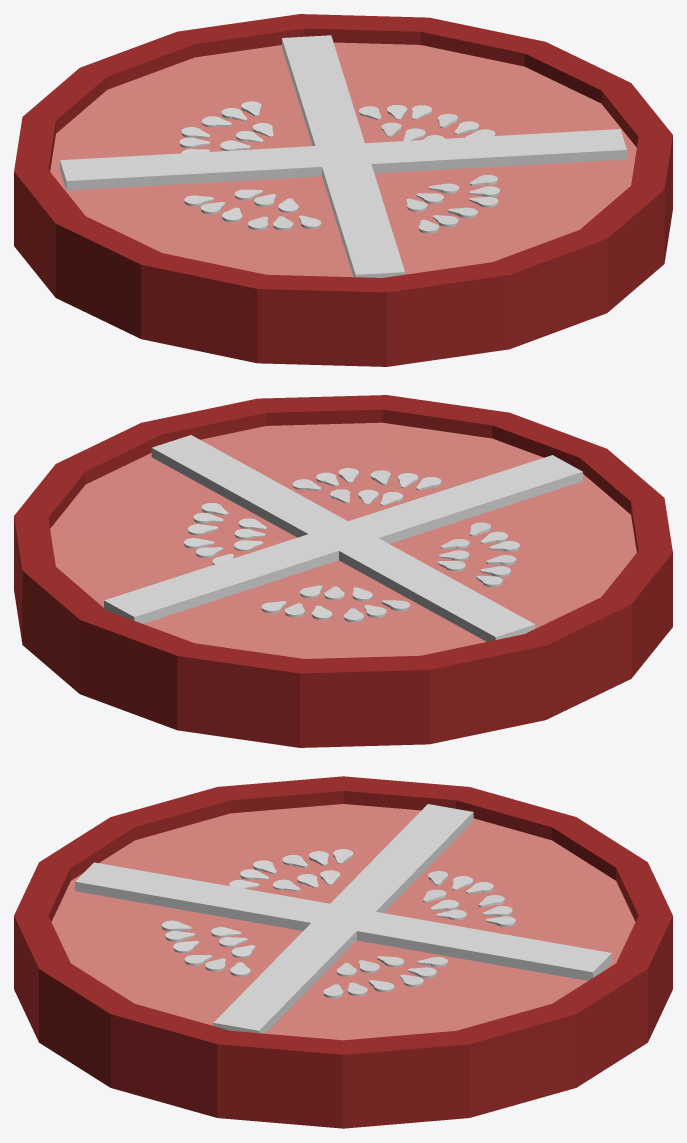
The model's file is tomato.glb.
3 renders of one model, top to bottom at view 1: azimuth 30°, elevation 25°; view 2: azimuth 150°, elevation 25°; view 3: azimuth 270°, elevation 25°, orthographic.
Visible parts, largest first — view 1: Cylinder; view 2: Cylinder; view 3: Cylinder.
Part boxes in pixels (x1=…): Cylinder: x1=14, y1=14, x2=672, y2=366; Cylinder: x1=14, y1=395, x2=672, y2=747; Cylinder: x1=14, y1=776, x2=672, y2=1128.
Bounding box in the file's own units: 2 × 0.2606 × 2.
